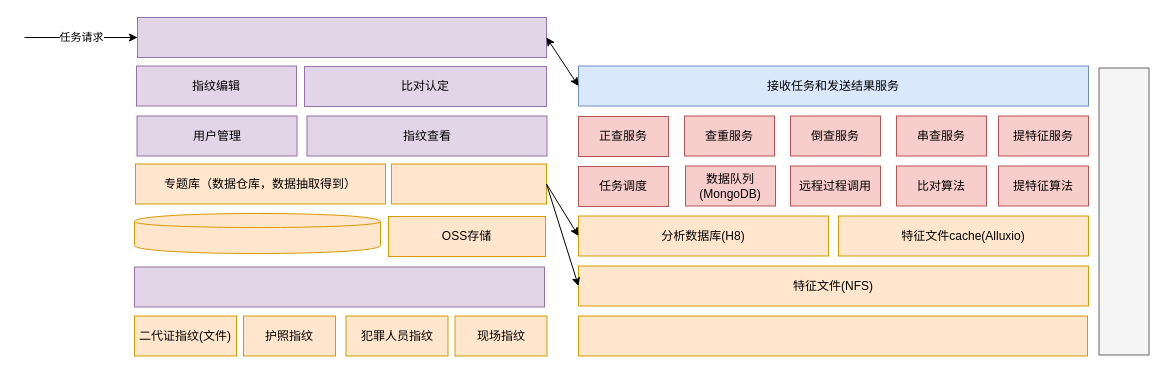
Image size: 1167x374. Some labels were removed from this diagram. The shapes that lost their labels are listed below. From the top down, each one's box as (x1, y1, x2, y2) in pixels, then its label:
(136, 16, 546, 58): 发查询和收结果服务
(390, 163, 546, 204): 指纹算法专有特征库
(1098, 67, 1149, 355): 阿里云监控
(134, 212, 380, 254): 结构化数据存储PPAS
(134, 266, 544, 307): 数据清洗和入库
(578, 315, 1088, 356): ECS(Linux)
